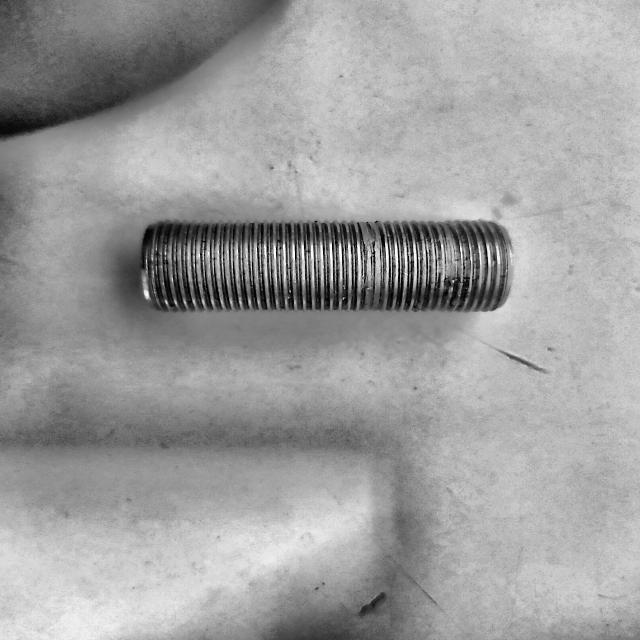Broken: (141, 218, 514, 314)
